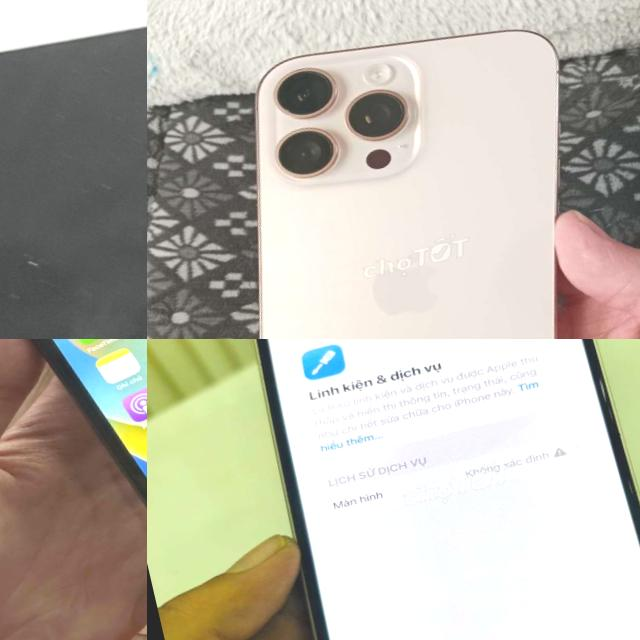gen_16: (251, 30, 558, 339)
gen_7_8: (0, 0, 147, 339), (0, 339, 147, 614)
